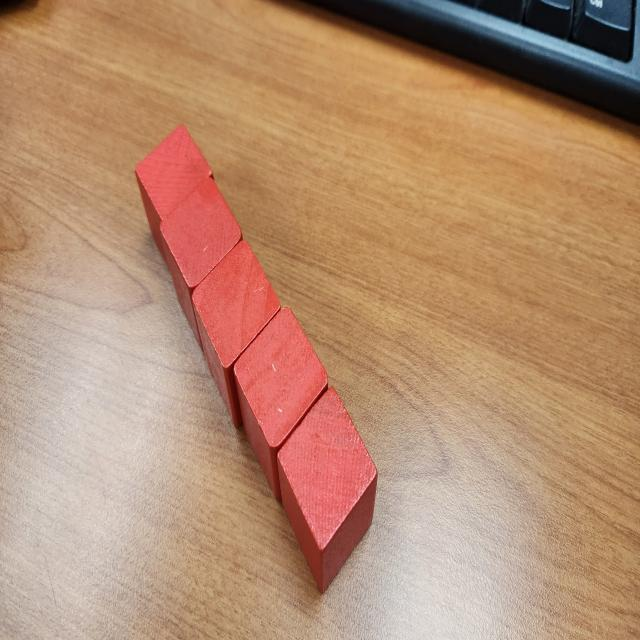red: (274, 386, 378, 596), (232, 305, 328, 503), (191, 237, 280, 430), (159, 175, 245, 353), (134, 123, 216, 268)
